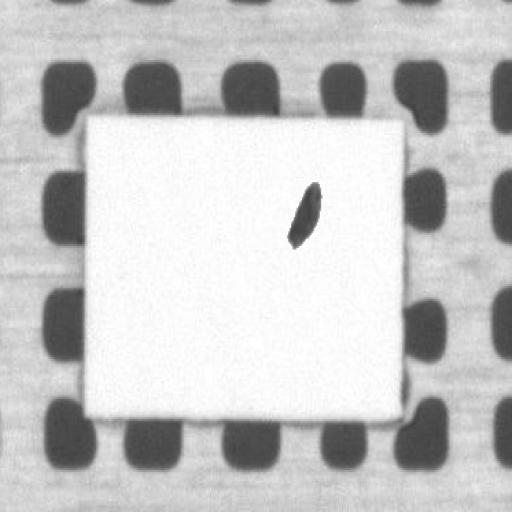DIE_INK: (376, 132, 428, 189)
